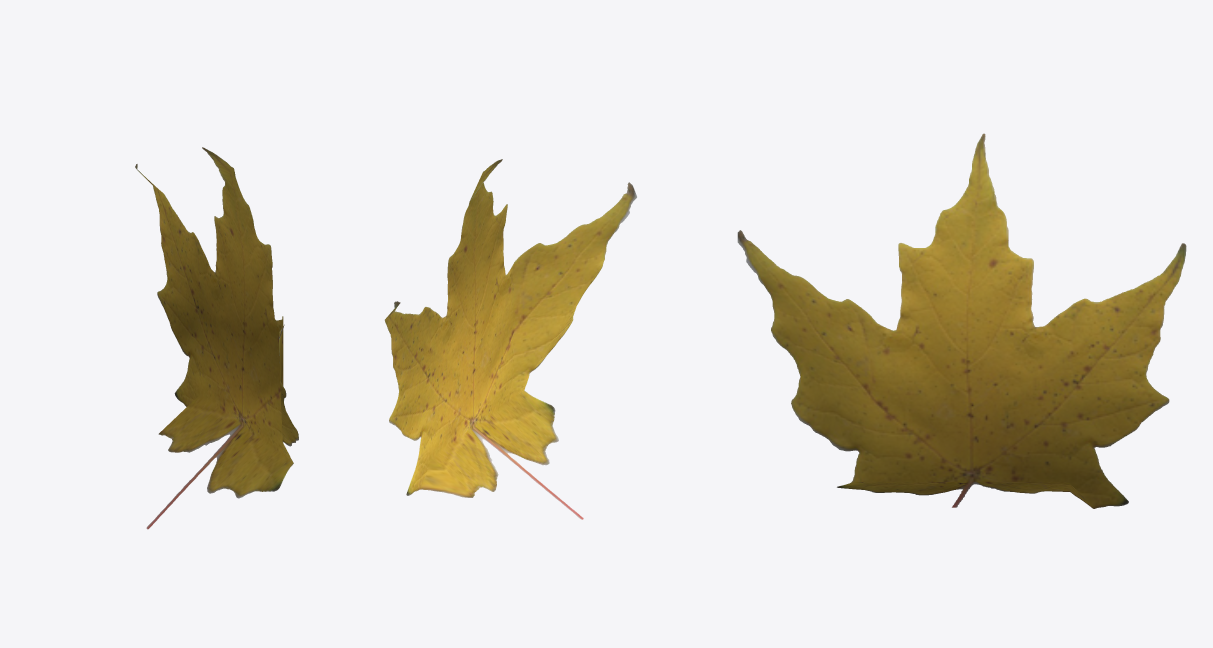
File: dry_leaf.fbx
3 renders of one model, left to right at view 1: azimuth 30°, elevation 25°; view 2: azimuth 150°, elevation 25°; view 3: azimuth 270°, elevation 25°, orthographic. The views are drawn at different scales.
Visible parts, largest first — view 1: pPlane1; view 2: pPlane1; view 3: pPlane1.
Part boxes in pixels (left/top/right/bottom): pPlane1: left=135, top=147, right=298, bottom=529; pPlane1: left=384, top=159, right=636, bottom=519; pPlane1: left=737, top=133, right=1186, bottom=508.
Size of the model in its own units: 2.46 by 5.96 by 4.66.
